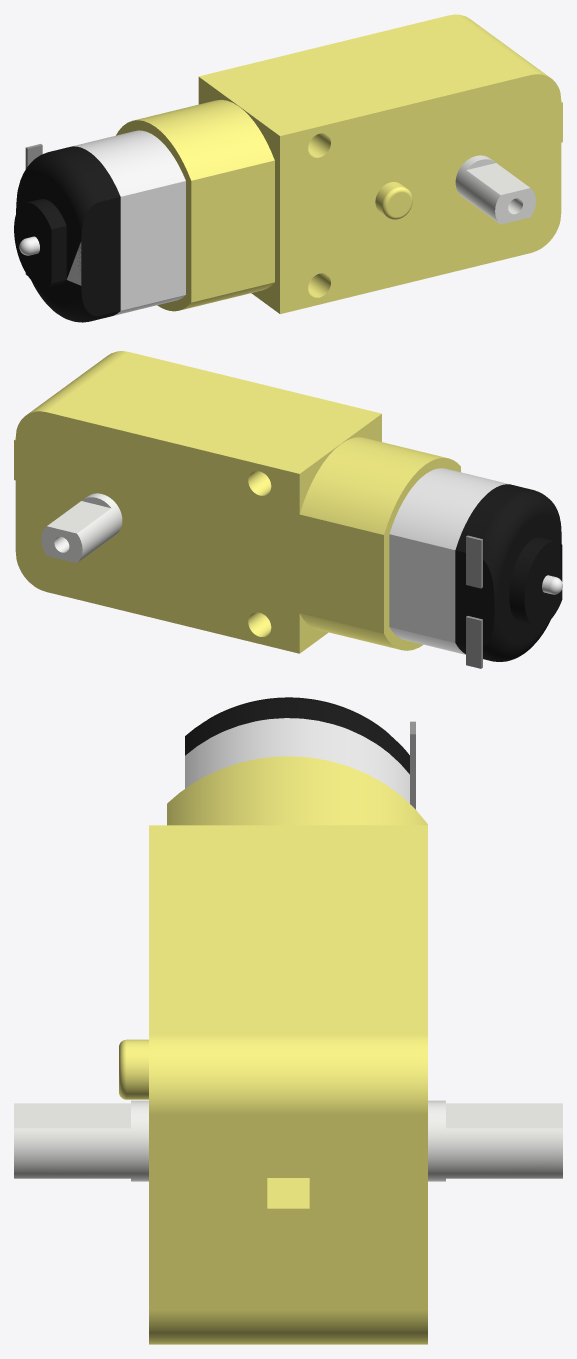
Rendered from adafruit_3777_tt_motor.glb.
3 renders of one model, top to bottom at view 1: azimuth 30°, elevation 25°; view 2: azimuth 150°, elevation 25°; view 3: azimuth 270°, elevation 25°, orthographic. The views are drawn at different scales.
Parts seen in each view (by area): view 1: body, shaft; view 2: body, shaft; view 3: body, shaft.
Boxes of the visible parts, left/top/right/bottom form: body: left=14, top=14, right=562, bottom=322; shaft: left=455, top=155, right=535, bottom=224; body: left=14, top=351, right=562, bottom=668; shaft: left=41, top=493, right=122, bottom=563; body: left=119, top=697, right=427, bottom=1344; shaft: left=14, top=1100, right=562, bottom=1181.
Bounding box in the file's own units: 0.0706 × 0.0224 × 0.0366.
